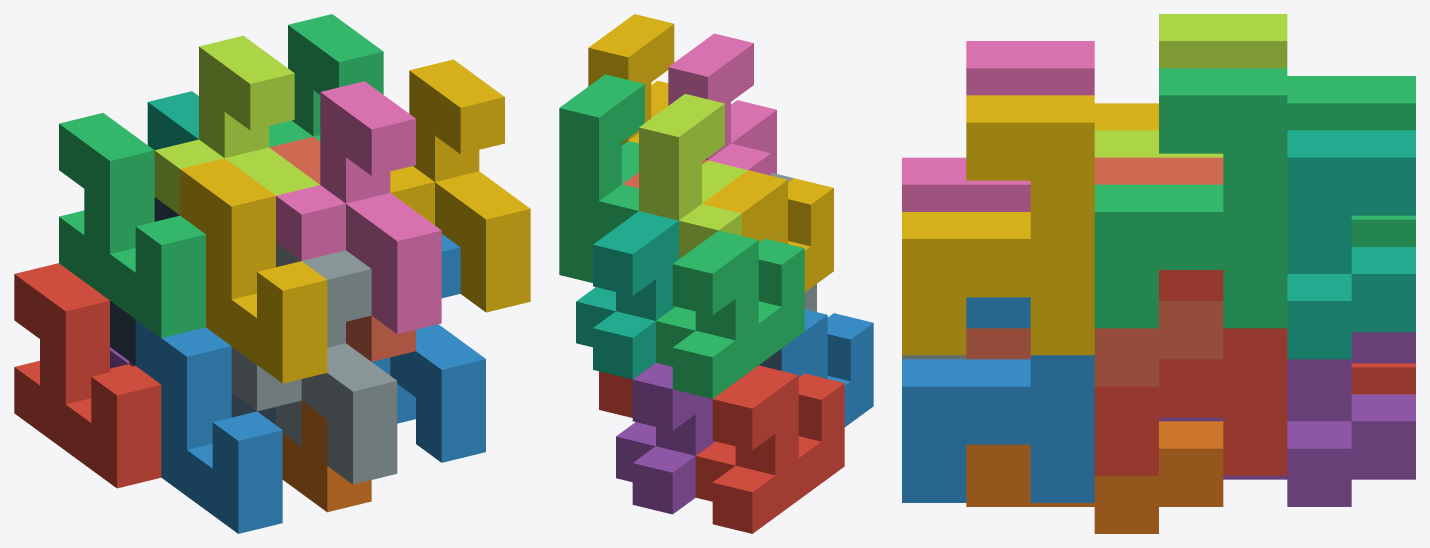
Rendered from tiling.obj.
3 renders of one model, left to right at view 1: azimuth 30°, elevation 25°; view 2: azimuth 150°, elevation 25°; view 3: azimuth 270°, elevation 25°, orthographic. The views are drawn at different scales.
Parts seen in each view (by area): view 1: copy_2_domain_4, copy_1_domain_1, copy_1_domain_3, copy_2_domain_8, copy_1_domain_4, copy_1_domain_2, copy_2_domain_2, copy_2_domain_3, copy_2_domain_6, copy_2_domain_7, copy_1_domain_6, copy_1_domain_8 (+2 smaller); view 2: copy_1_domain_1, copy_1_domain_3, copy_2_domain_7, copy_1_domain_7, copy_2_domain_3, copy_1_domain_5, copy_2_domain_4, copy_1_domain_4, copy_1_domain_2, copy_2_domain_8, copy_2_domain_5, copy_2_domain_2; view 3: copy_2_domain_7, copy_2_domain_8, copy_2_domain_6, copy_1_domain_7, copy_2_domain_5, copy_1_domain_5, copy_1_domain_6, copy_1_domain_8, copy_2_domain_4, copy_2_domain_3, copy_1_domain_3, copy_1_domain_1 (+1 smaller).
Boxes of the visible parts, <box> form: copy_2_domain_4: <box>276,81,441,334</box>; copy_1_domain_1: <box>14,263,161,488</box>; copy_1_domain_3: <box>59,113,205,337</box>; copy_2_domain_8: <box>390,59,530,312</box>; copy_1_domain_4: <box>180,158,327,383</box>; copy_1_domain_2: <box>135,319,282,533</box>; copy_2_domain_2: <box>231,242,397,484</box>; copy_2_domain_3: <box>154,35,319,215</box>; copy_2_domain_6: <box>372,234,485,462</box>; copy_2_domain_7: <box>269,14,383,147</box>; copy_1_domain_6: <box>282,401,371,512</box>; copy_1_domain_8: <box>269,136,415,361</box>; copy_1_domain_1: <box>695,365,844,533</box>; copy_1_domain_3: <box>656,230,804,398</box>; copy_2_domain_7: <box>559,74,644,282</box>; copy_1_domain_7: <box>576,211,678,379</box>; copy_2_domain_3: <box>639,94,747,258</box>; copy_1_domain_5: <box>616,363,714,514</box>; copy_2_domain_4: <box>668,33,776,175</box>; copy_1_domain_4: <box>702,170,833,292</box>; copy_1_domain_2: <box>781,309,873,426</box>; copy_2_domain_8: <box>588,14,674,144</box>; copy_2_domain_5: <box>599,371,632,417</box>; copy_2_domain_2: <box>771,172,816,311</box>; copy_2_domain_7: <box>1094,68,1287,328</box>; copy_2_domain_8: <box>902,95,1094,355</box>; copy_2_domain_6: <box>902,297,1094,502</box>; copy_1_domain_7: <box>1287,130,1415,359</box>; copy_2_domain_5: <box>1094,270,1287,475</box>; copy_1_domain_5: <box>1159,332,1415,506</box>; copy_1_domain_6: <box>966,421,1223,533</box>; copy_1_domain_8: <box>966,157,1223,386</box>; copy_2_domain_4: <box>902,41,1094,211</box>; copy_2_domain_3: <box>1094,14,1287,157</box>; copy_1_domain_3: <box>1287,76,1415,246</box>; copy_1_domain_1: <box>1351,363,1415,394</box>.
Size of the model in its own units: 7 by 8 by 8.
